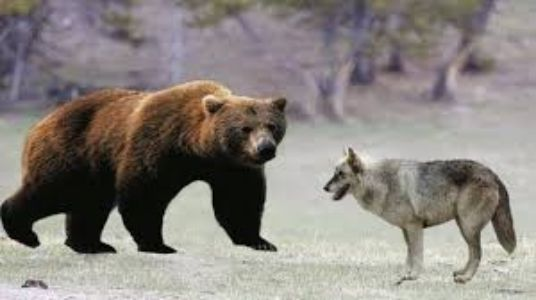bear: (12, 77, 291, 262)
wolf: (327, 139, 523, 291)
